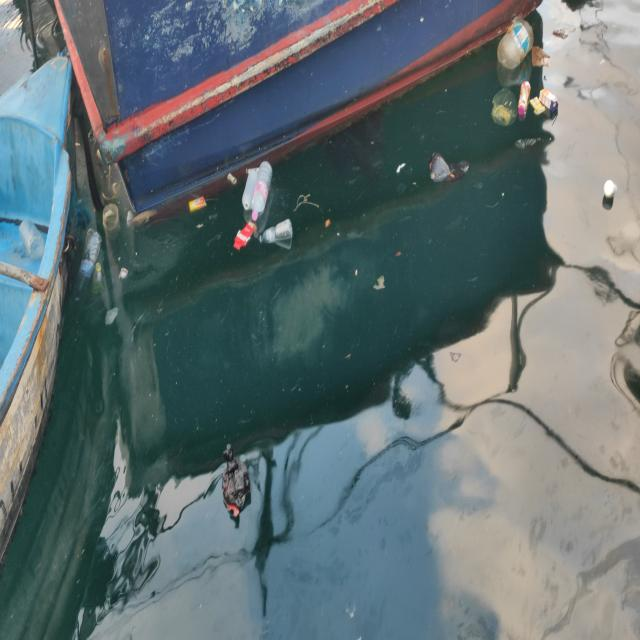Juice box: (538, 88, 560, 112)
Plastic: (104, 305, 119, 327)
Plastic bag: (220, 440, 253, 523), (427, 148, 473, 186), (490, 86, 518, 128), (514, 136, 545, 152), (551, 24, 574, 41)
Plastic bottle: (72, 226, 102, 304), (496, 14, 535, 71), (251, 161, 274, 222), (258, 218, 293, 244), (242, 169, 258, 211), (101, 202, 120, 231), (518, 80, 532, 116), (92, 261, 104, 294), (602, 180, 620, 200)
Plastic cup: (226, 172, 238, 186), (118, 266, 129, 280), (246, 166, 261, 176)
Plastic packaging: (232, 217, 258, 253), (530, 44, 551, 70), (529, 95, 546, 116)
